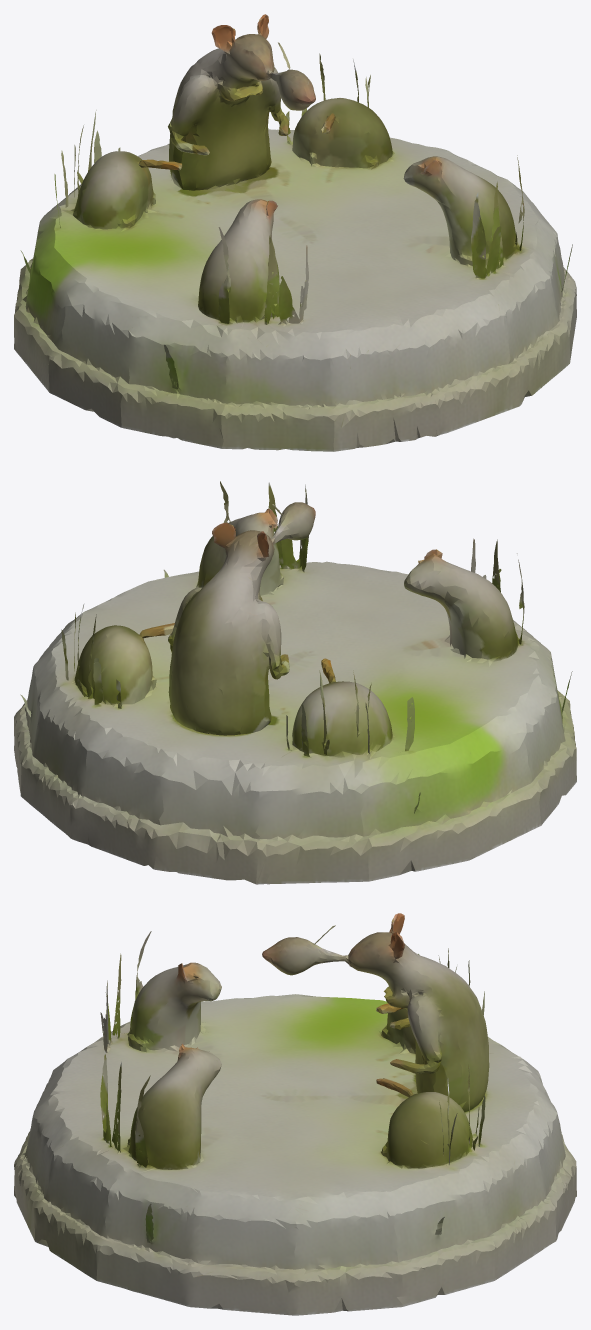
The picture shows the model from 3 angles, top to bottom: view 1: azimuth 30°, elevation 25°; view 2: azimuth 150°, elevation 25°; view 3: azimuth 270°, elevation 25°; orthographic projection.
Parts seen in each view (by area): view 1: PackAmbush; view 2: PackAmbush; view 3: PackAmbush.
Part boxes in pixels (left/top/right/bottom): PackAmbush: left=14, top=14, right=576, bottom=451; PackAmbush: left=14, top=481, right=576, bottom=884; PackAmbush: left=14, top=913, right=576, bottom=1315.
Size of the model in its own units: 1.9 by 1.02 by 1.9.
Materials: 1 (1 with a texture image).
